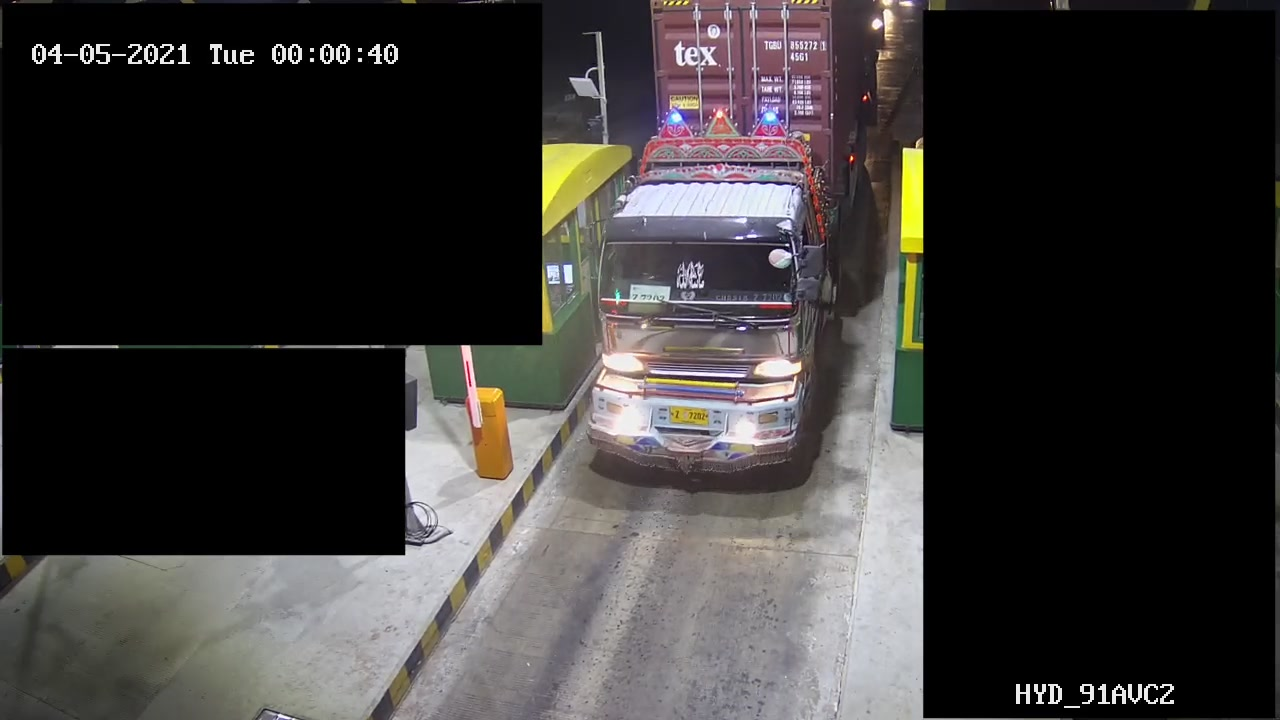F6: (574, 1, 883, 490)
